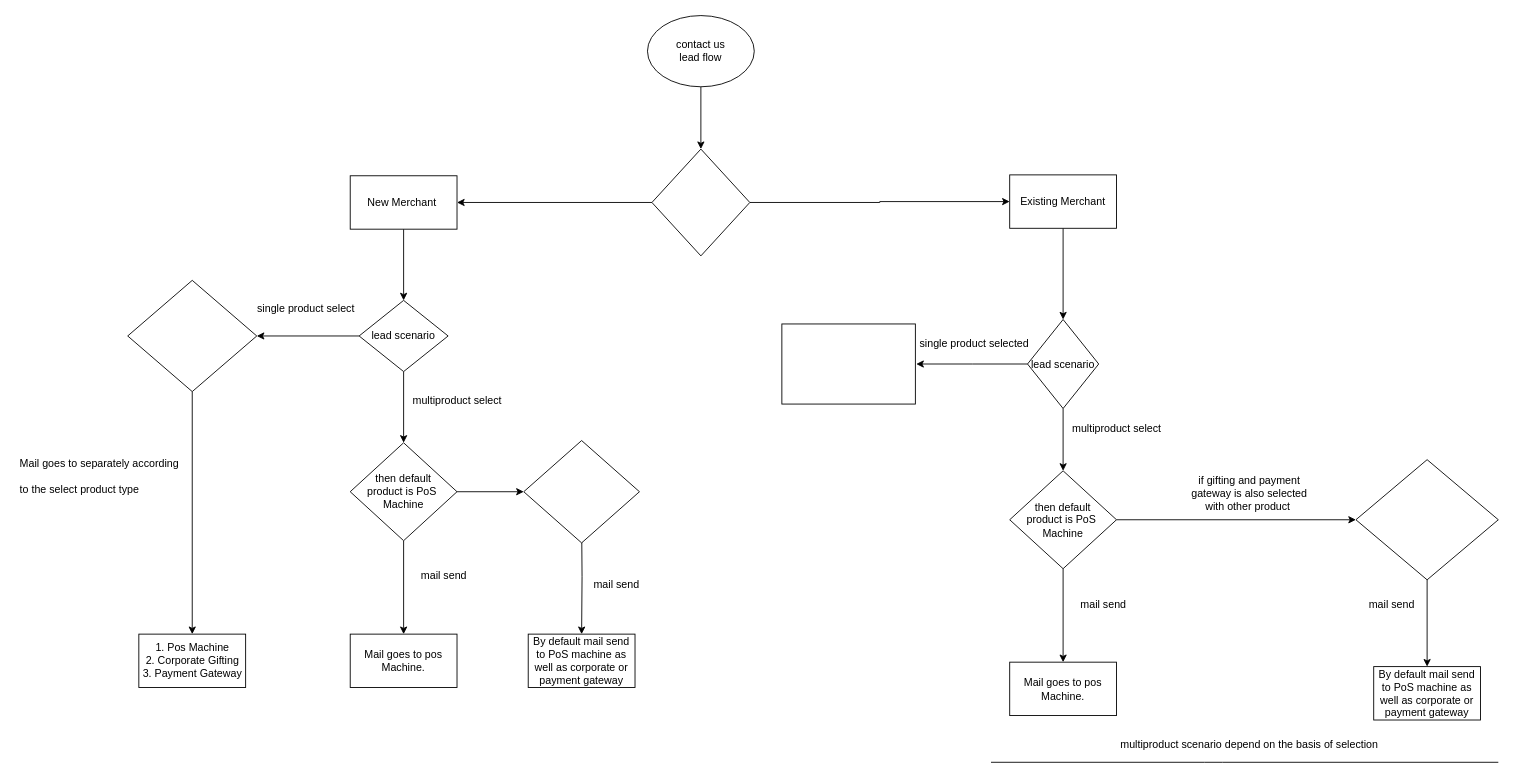
The diagram is 1515 pixels wide and 779 high, and some of its shapes have lost their labels. The centre of each missing label's shape, as x and y in pixels:
"if lead type is equal to given below any of them" goes at [192,335].
"if user select corporate gifting or payment gateway" goes at [581,491].
"if user select corporate gifting or payment gateway with pos machine" goes at [1426,519].
"Mail goes to separately according to the selected product type" goes at [848,363].
"select merchant type" goes at [700,202].
